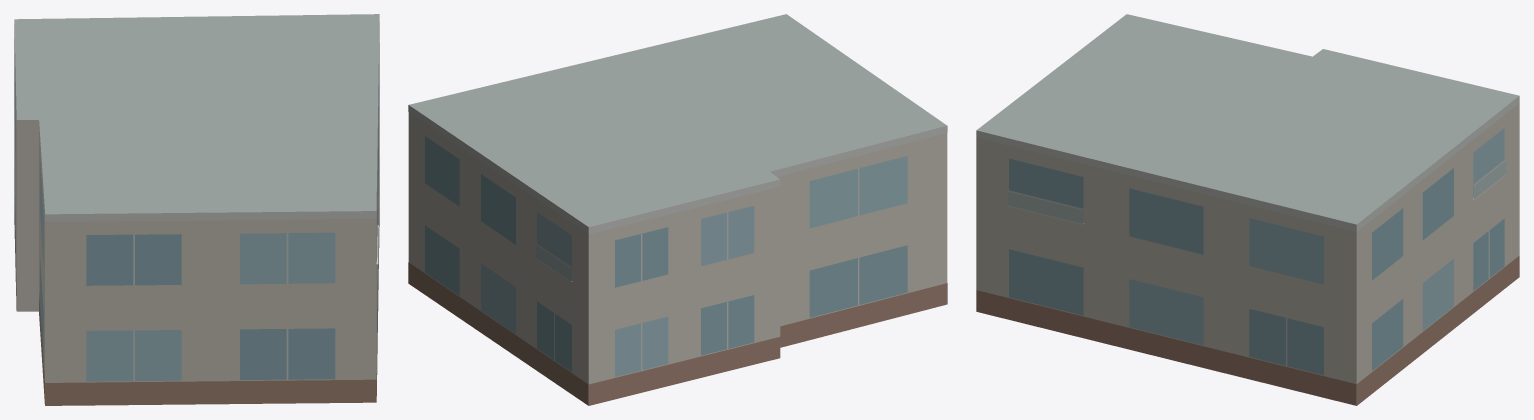
File: survey-upis-32693289.glb
3 renders of one model, left to right at view 1: azimuth 30°, elevation 25°; view 2: azimuth 150°, elevation 25°; view 3: azimuth 270°, elevation 25°, orthographic. The views are drawn at different scales.
Visible parts, largest first — view 1: survey-upis-32693289.tmp; view 2: survey-upis-32693289.tmp; view 3: survey-upis-32693289.tmp.
Part boxes in pixels (box(x1,y1,x2,y2)): survey-upis-32693289.tmp: box(14, 14, 379, 405); survey-upis-32693289.tmp: box(408, 14, 947, 405); survey-upis-32693289.tmp: box(976, 14, 1519, 405).
Size of the model in its own units: 15.2 by 6.1 by 16.58.
